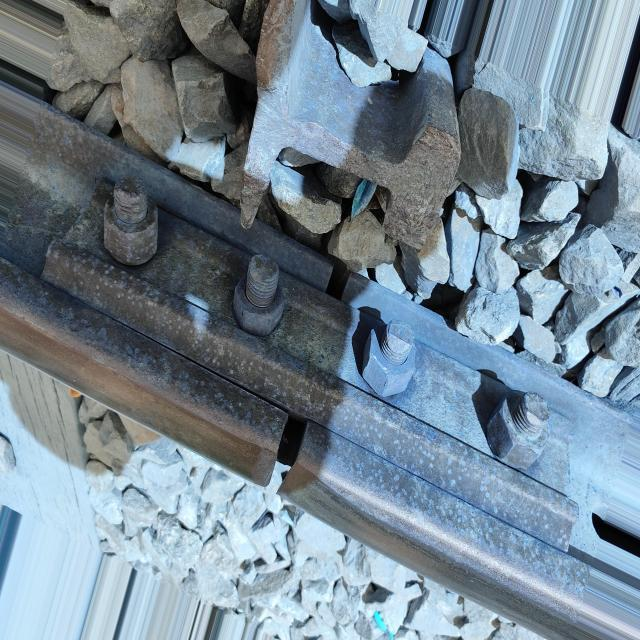Good Joint: (41, 177, 629, 551)
